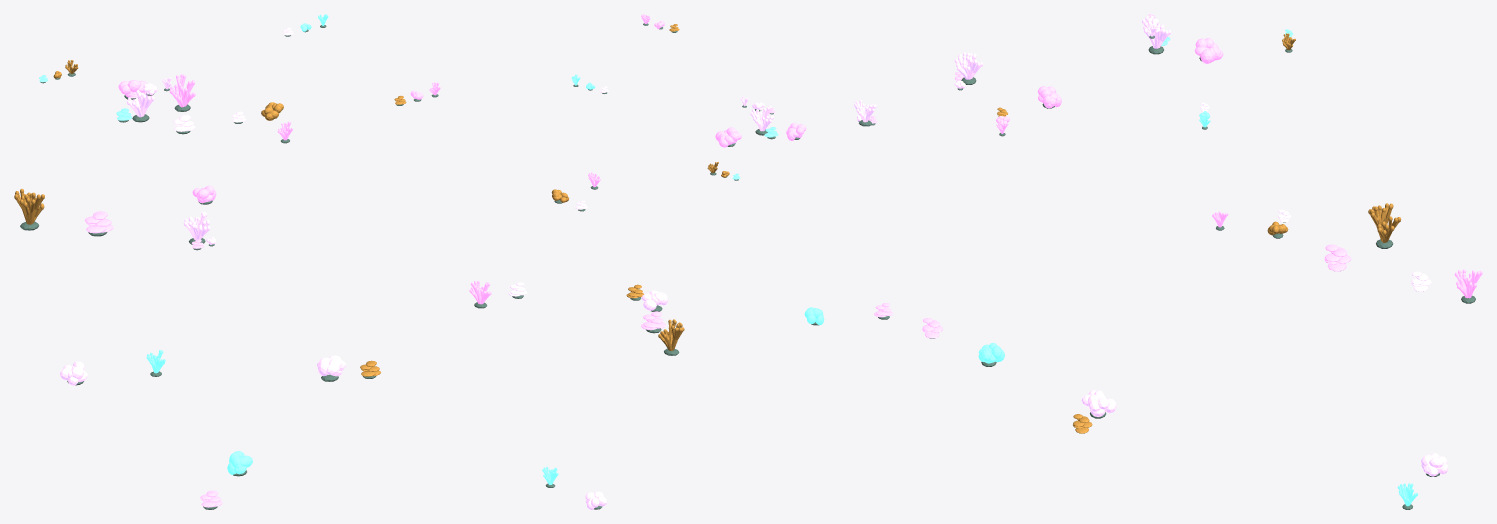
Rendered from coral_06.glb.
3 renders of one model, left to right at view 1: azimuth 30°, elevation 25°; view 2: azimuth 150°, elevation 25°; view 3: azimuth 270°, elevation 25°, orthographic. The views are drawn at different scales.
Visible parts, largest first — view 1: coral_06; view 2: coral_06; view 3: coral_06.
Boxes of the visible parts, box(x1,y1,x2,y2) form: coral_06: box(14, 14, 440, 509); coral_06: box(469, 14, 893, 509); coral_06: box(922, 14, 1482, 509).
Bounding box in the file's own units: 42.35 × 61.83 × 73.39.
